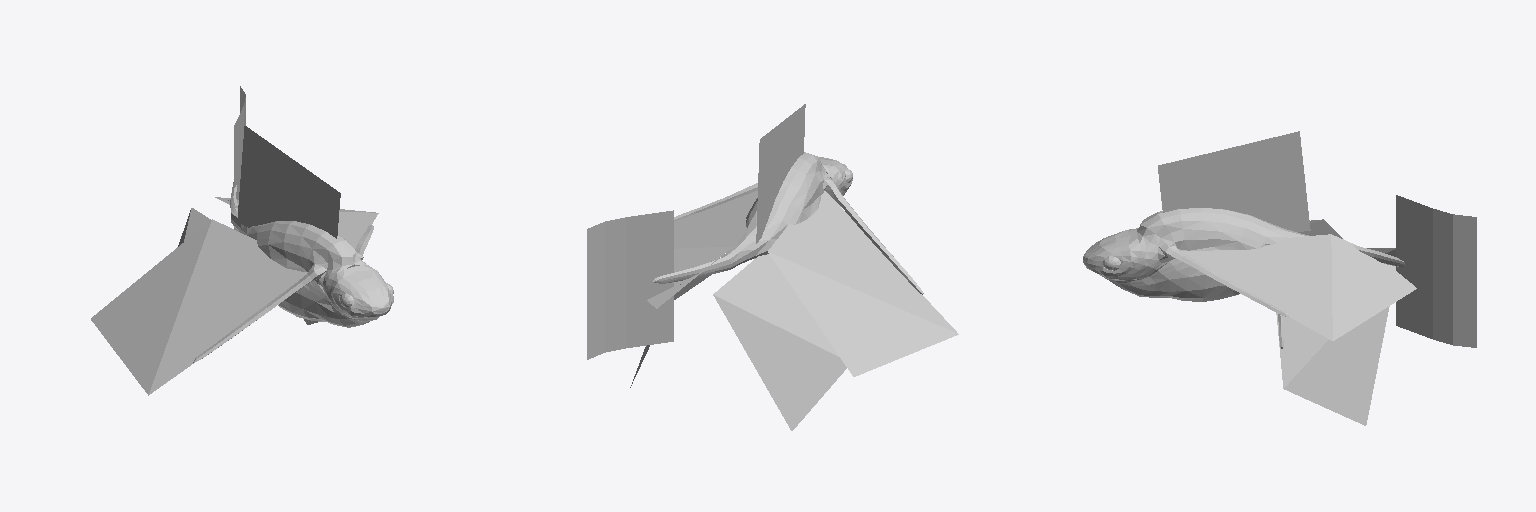
The model's file is fish_000036.obj.
The picture shows the model from 3 angles: view 1: azimuth 30°, elevation 25°; view 2: azimuth 150°, elevation 25°; view 3: azimuth 270°, elevation 25°; orthographic projection.
Visible parts, largest first — view 1: flyingFish_low_StingrayPBS1_0; view 2: flyingFish_low_StingrayPBS1_0; view 3: flyingFish_low_StingrayPBS1_0.
Part boxes in pixels (x1,y1,x2,y2): flyingFish_low_StingrayPBS1_0: (91, 86, 393, 395); flyingFish_low_StingrayPBS1_0: (587, 104, 958, 430); flyingFish_low_StingrayPBS1_0: (1083, 131, 1476, 425).
Bounding box in the file's own units: 17 × 13.5 × 19.42.